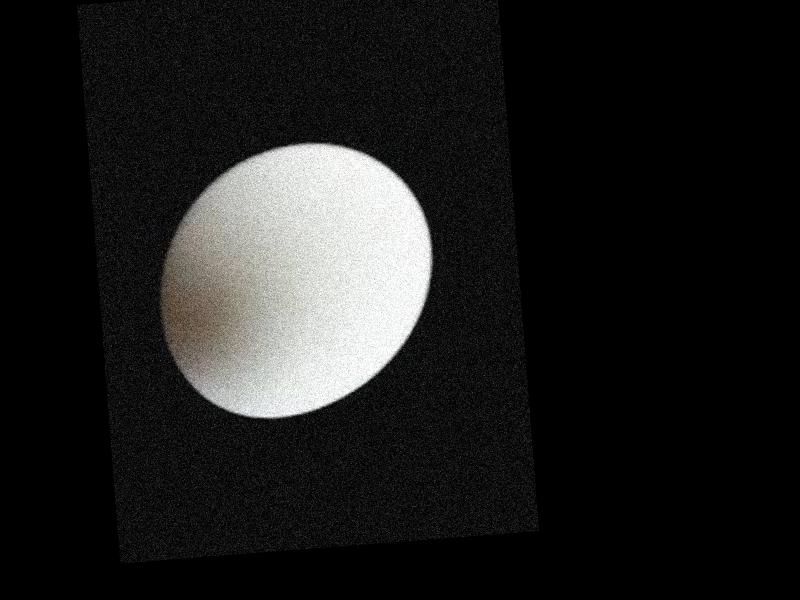Eggs: (152, 135, 443, 426)
